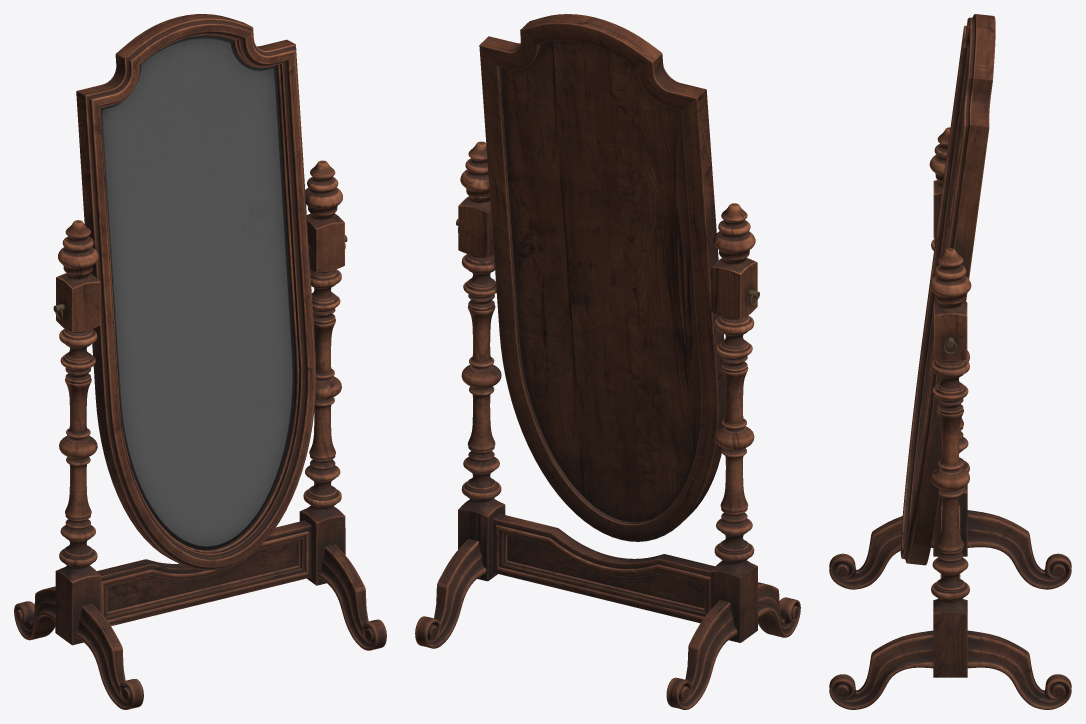
The model's file is mirror_edited.glb.
The picture shows the model from 3 angles, left to right: view 1: azimuth 30°, elevation 25°; view 2: azimuth 150°, elevation 25°; view 3: azimuth 270°, elevation 25°; orthographic projection. The views are drawn at different scales.
Parts seen in each view (by area): view 1: 2_default_0, 1_default_0; view 2: 2_default_0, 1_default_0; view 3: 1_default_0, 2_default_0.
Part boxes in pixels (box(x1,y1,x2,y2)): 2_default_0: box(76, 14, 316, 570); 1_default_0: box(14, 160, 386, 709); 2_default_0: box(479, 14, 725, 541); 1_default_0: box(415, 141, 800, 709); 1_default_0: box(829, 127, 1071, 709); 2_default_0: box(900, 14, 995, 565).
Size of the model in its own units: 0.00922 by 0.0185 by 0.00656.
1 material, 1 textured.
